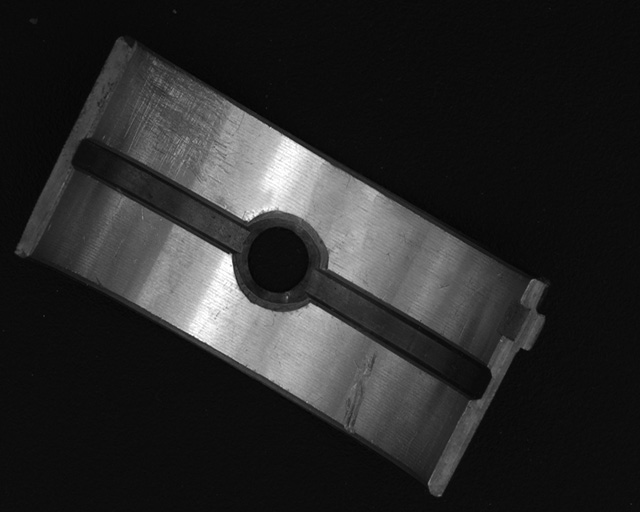gap: (312, 269, 489, 400), (70, 139, 249, 252)
hole: (237, 211, 320, 306)
nick: (340, 352, 380, 435)
scratch: (121, 60, 242, 186)
